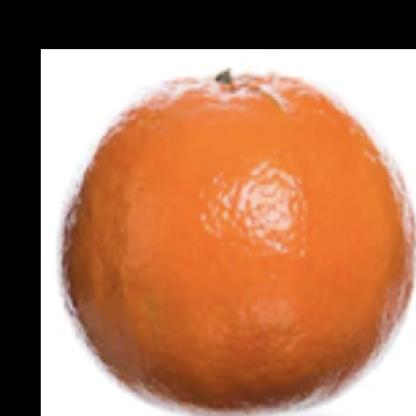fresh: (66, 74, 415, 416)
